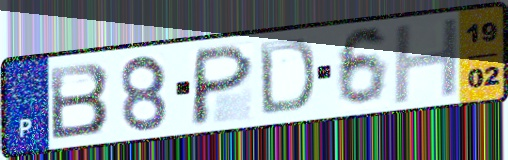6: (332, 24, 393, 112)
8: (119, 52, 170, 134)
B: (46, 59, 112, 142)
D: (256, 37, 318, 118)
H: (390, 14, 463, 108)
P: (187, 41, 257, 128)
